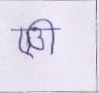i_matra: (42, 19, 58, 54)
